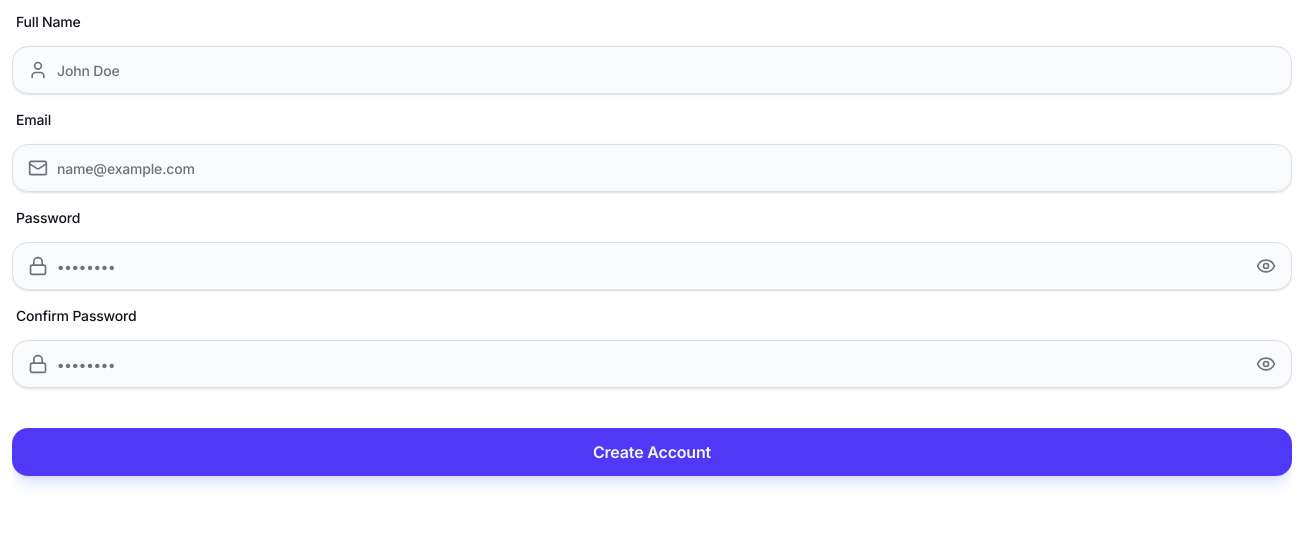
Scenario: SignupForm Component › handles server-side errors (e.g., email already exists)
Type "Houari" into the field with placeholder "John Doe" at [652, 70], box 12,46 -> 1292,94
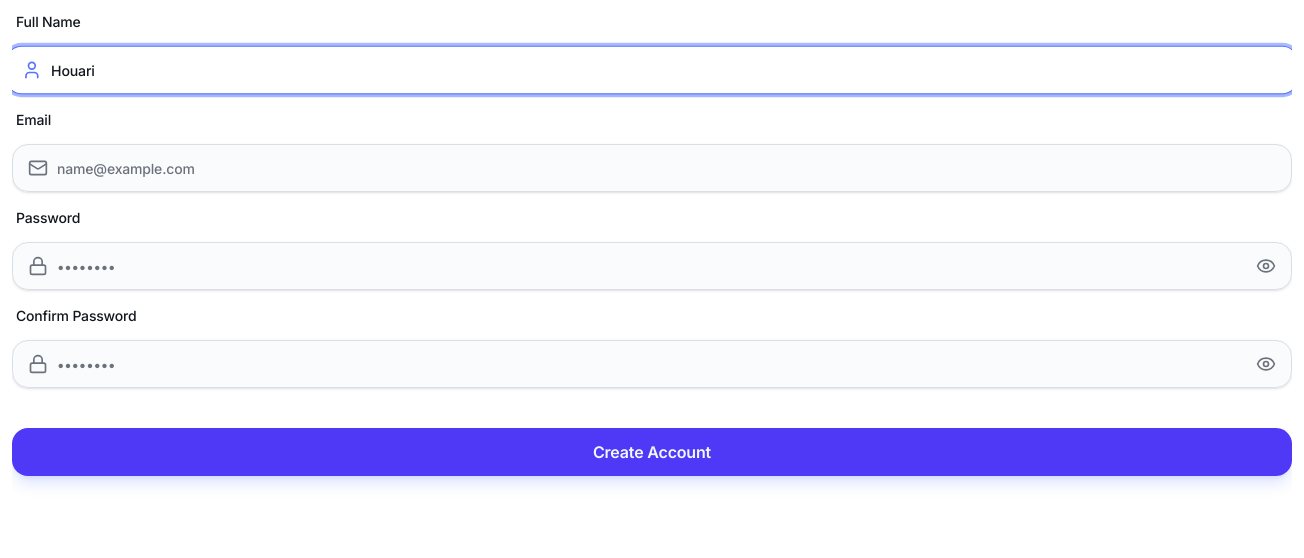
Type "existing@example.com" into the field with placeholder "name@example.com" at [652, 168], box 12,144 -> 1292,192
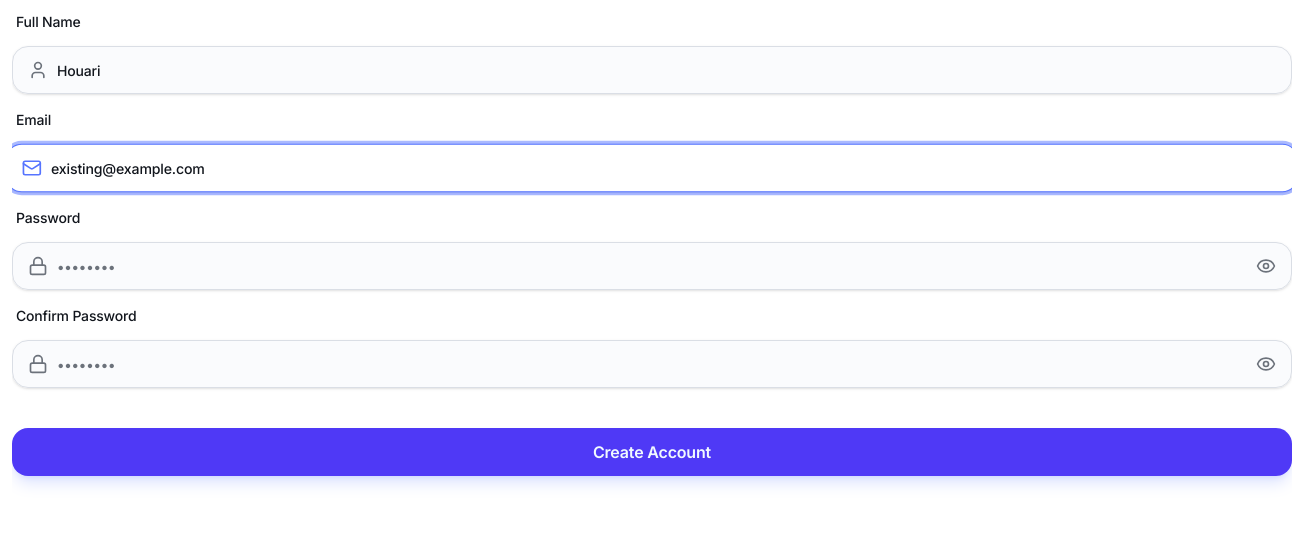
Type "password123" into the 1st password field with placeholder "••••••••" at [652, 266], box 12,242 -> 1292,290
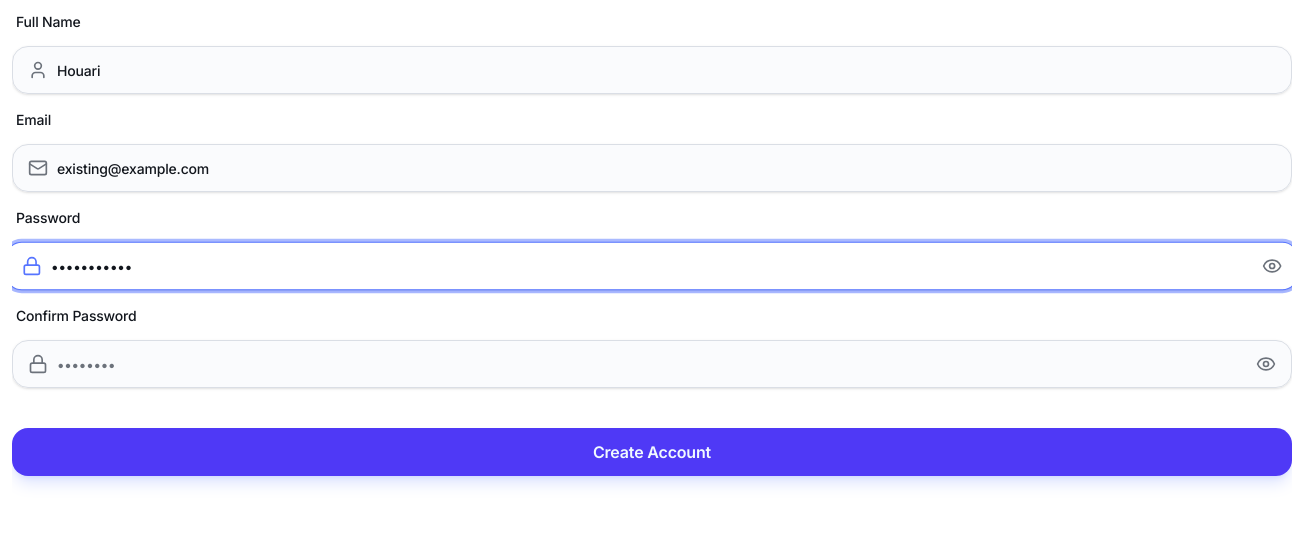
Type "password123" into the password field with placeholder "••••••••" at [652, 364], box 12,340 -> 1292,388
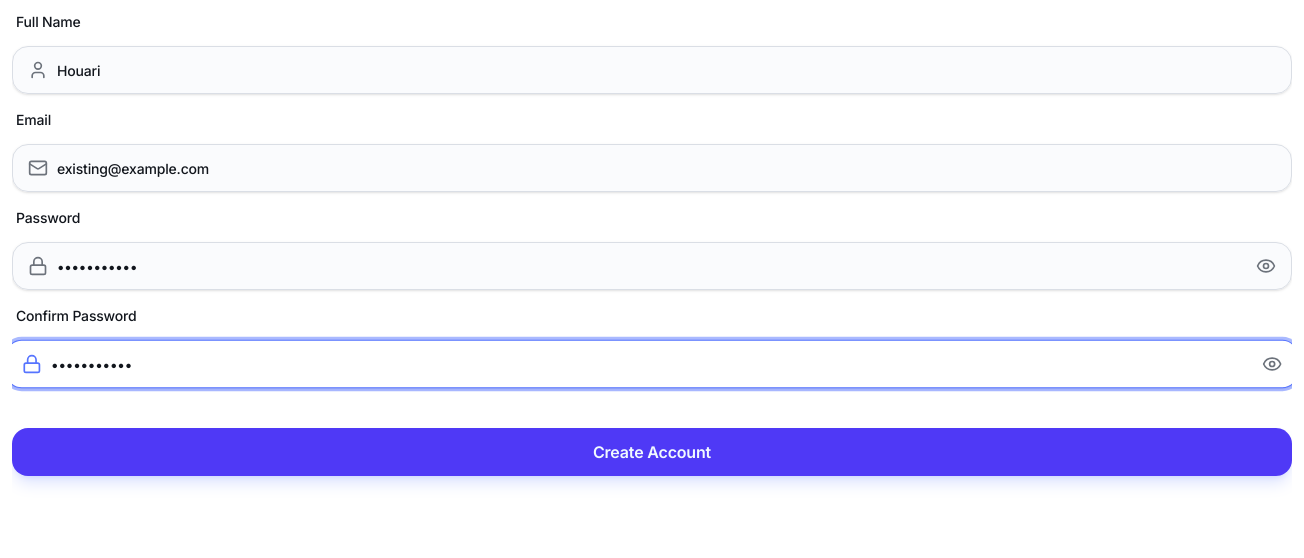
Click the button "Create Account" at [652, 452], box 12,428 -> 1292,476
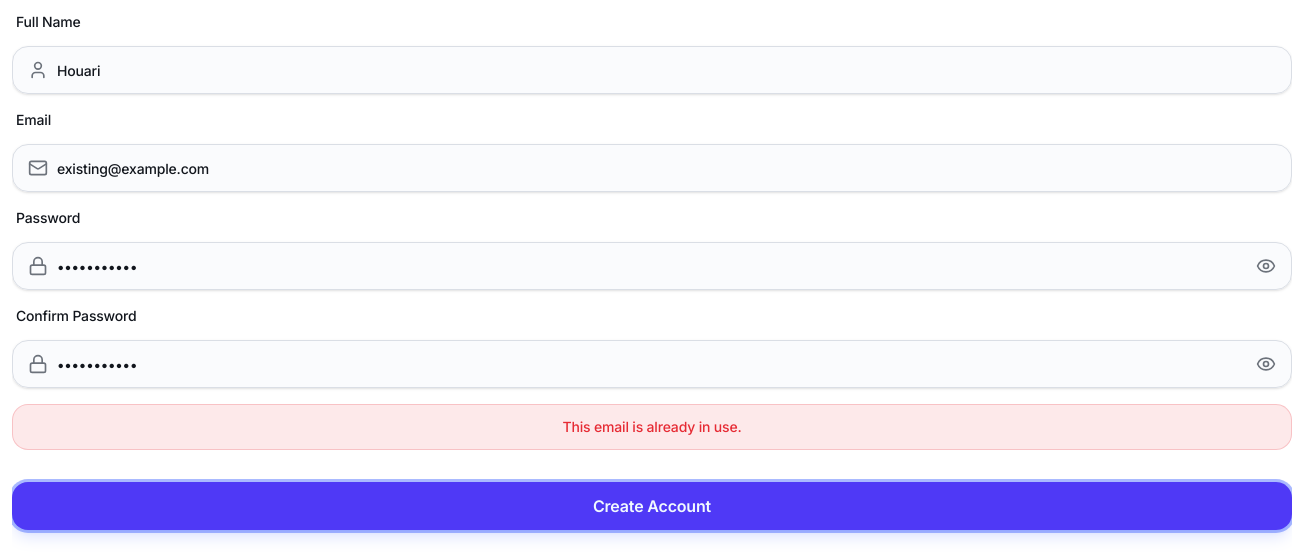
Result: the text "This email is already in use." is shown at 12,404 -> 1292,450
